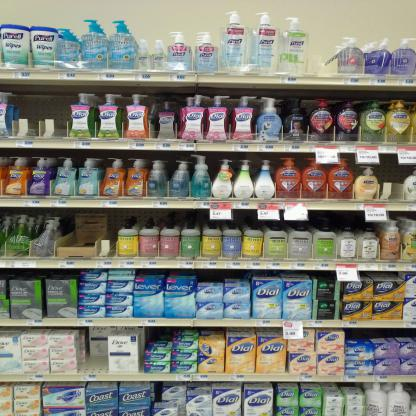Void: (19, 89, 70, 135), (76, 334, 107, 372), (320, 36, 343, 78)
